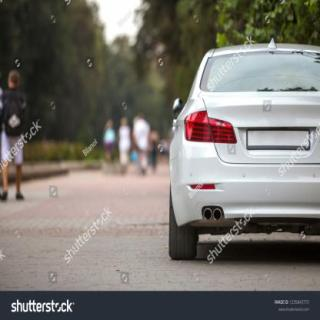Normal_vehicle: (168, 38, 319, 264)
